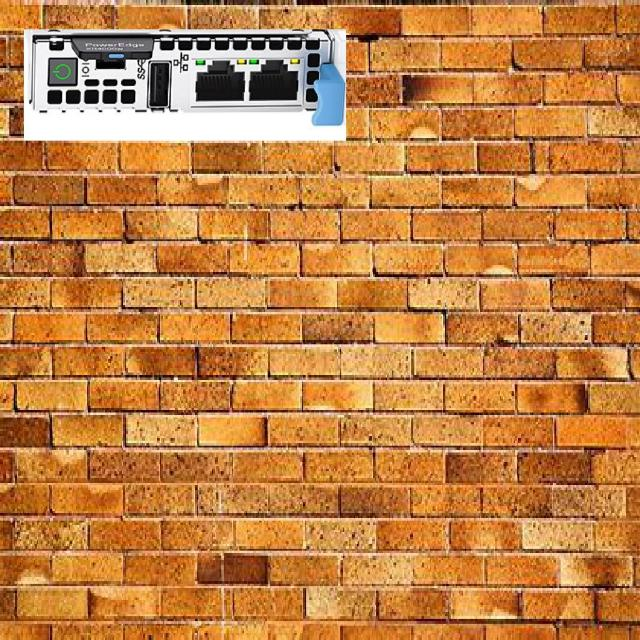Server: (23, 29, 345, 140)
